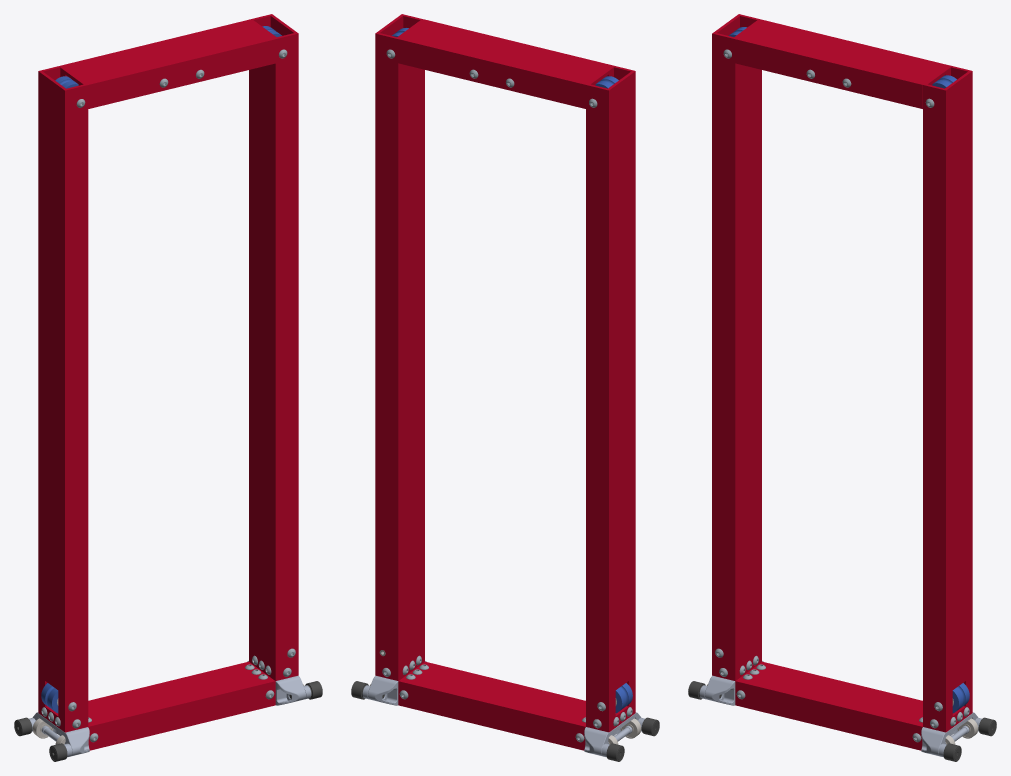
3 renders of one model, left to right at view 1: azimuth 30°, elevation 25°; view 2: azimuth 150°, elevation 25°; view 3: azimuth 330°, elevation 25°, orthographic.
Parts seen in each view (by area): view 1: Left Tier2 Tube, Right Tier2 tube, Top tier2 tube, bottom Tier2 tube, Elevator Bearing Block Body REV4(All Parts, Long Spacers) (×2); view 2: Left Tier2 Tube, Right Tier2 tube, Top tier2 tube, bottom Tier2 tube, Elevator Bearing Block Body REV4(All Parts, Long Spacers) (×2); view 3: Right Tier2 tube, Left Tier2 Tube, Top tier2 tube, bottom Tier2 tube, Elevator Bearing Block Body REV4(All Parts, Long Spacers) (×2).
Part boxes in pixels (x1=…): Left Tier2 Tube: x1=38, y1=65, x2=88, y2=732; Right Tier2 tube: x1=249, y1=14, x2=298, y2=680; Top tier2 tube: x1=62, y1=19, x2=275, y2=108; bottom Tier2 tube: x1=88, y1=661, x2=275, y2=750; Elevator Bearing Block Body REV4(All Parts, Long Spacers) (×2): x1=32, y1=661, x2=305, y2=756; Left Tier2 Tube: x1=586, y1=65, x2=635, y2=732; Right Tier2 tube: x1=375, y1=14, x2=424, y2=680; Top tier2 tube: x1=398, y1=19, x2=611, y2=108; bottom Tier2 tube: x1=398, y1=661, x2=585, y2=750; Elevator Bearing Block Body REV4(All Parts, Long Spacers) (×2): x1=368, y1=661, x2=641, y2=756; Right Tier2 tube: x1=923, y1=65, x2=972, y2=732; Left Tier2 Tube: x1=712, y1=14, x2=761, y2=680; Top tier2 tube: x1=735, y1=19, x2=948, y2=108; bottom Tier2 tube: x1=735, y1=661, x2=922, y2=750; Elevator Bearing Block Body REV4(All Parts, Long Spacers) (×2): x1=705, y1=661, x2=978, y2=756.
Bounding box in the file's own units: 0.2912 × 0.7011 × 0.0827.
